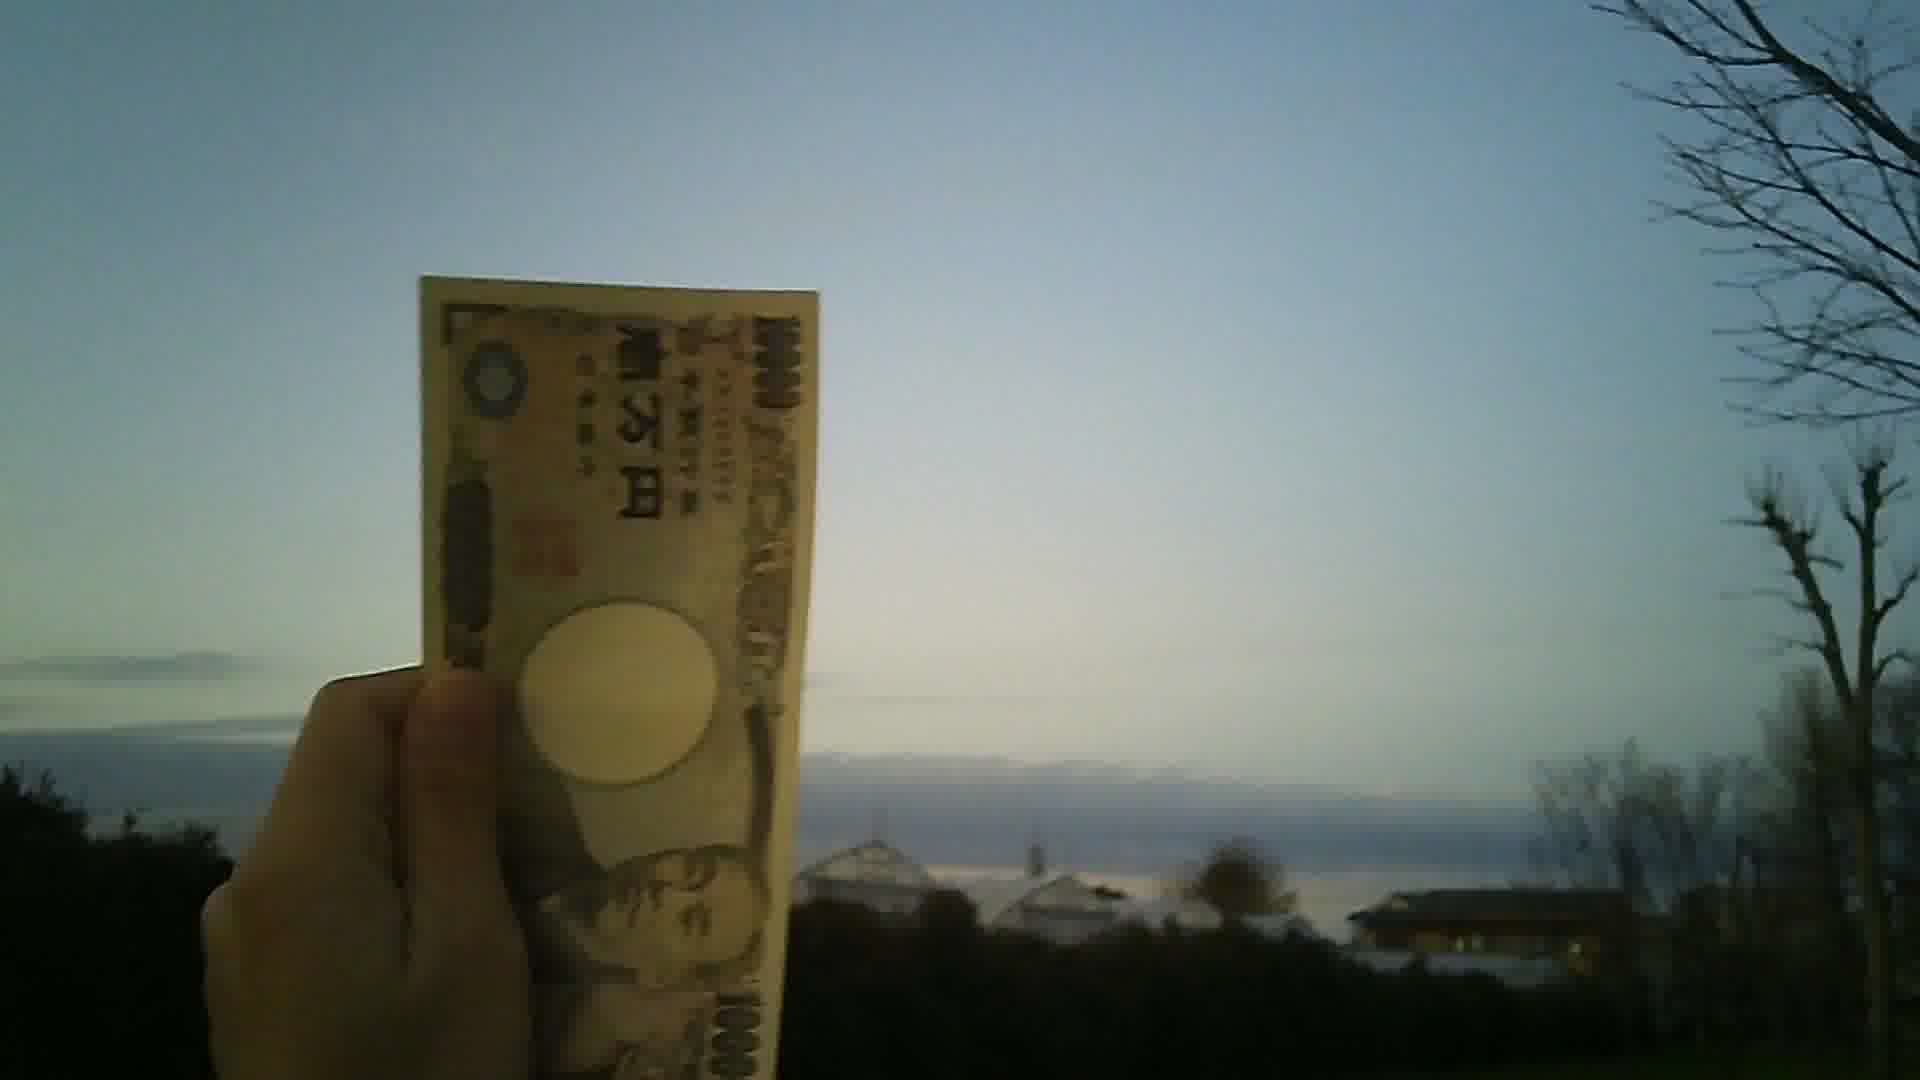10,000 Yen: (405, 255, 843, 1079)
